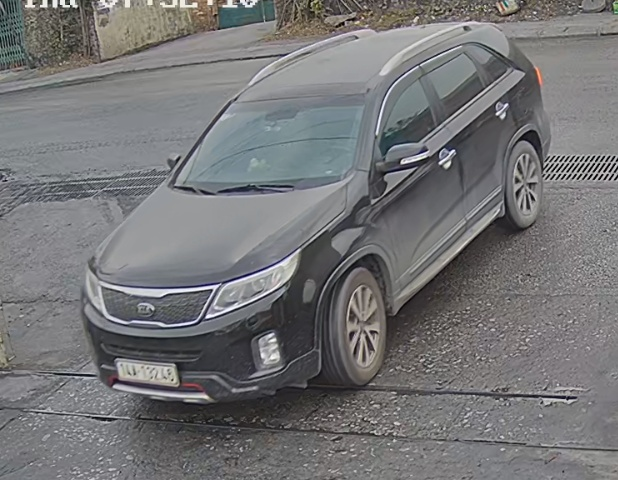vehicle plate: (109, 354, 183, 385)
